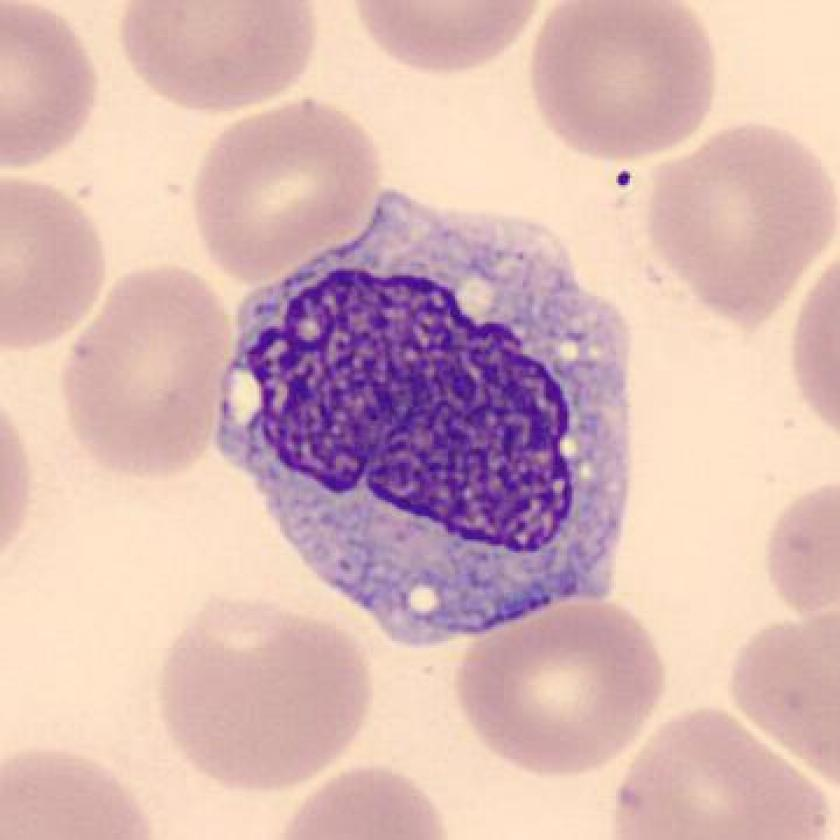monocyte: (200, 181, 662, 656)
